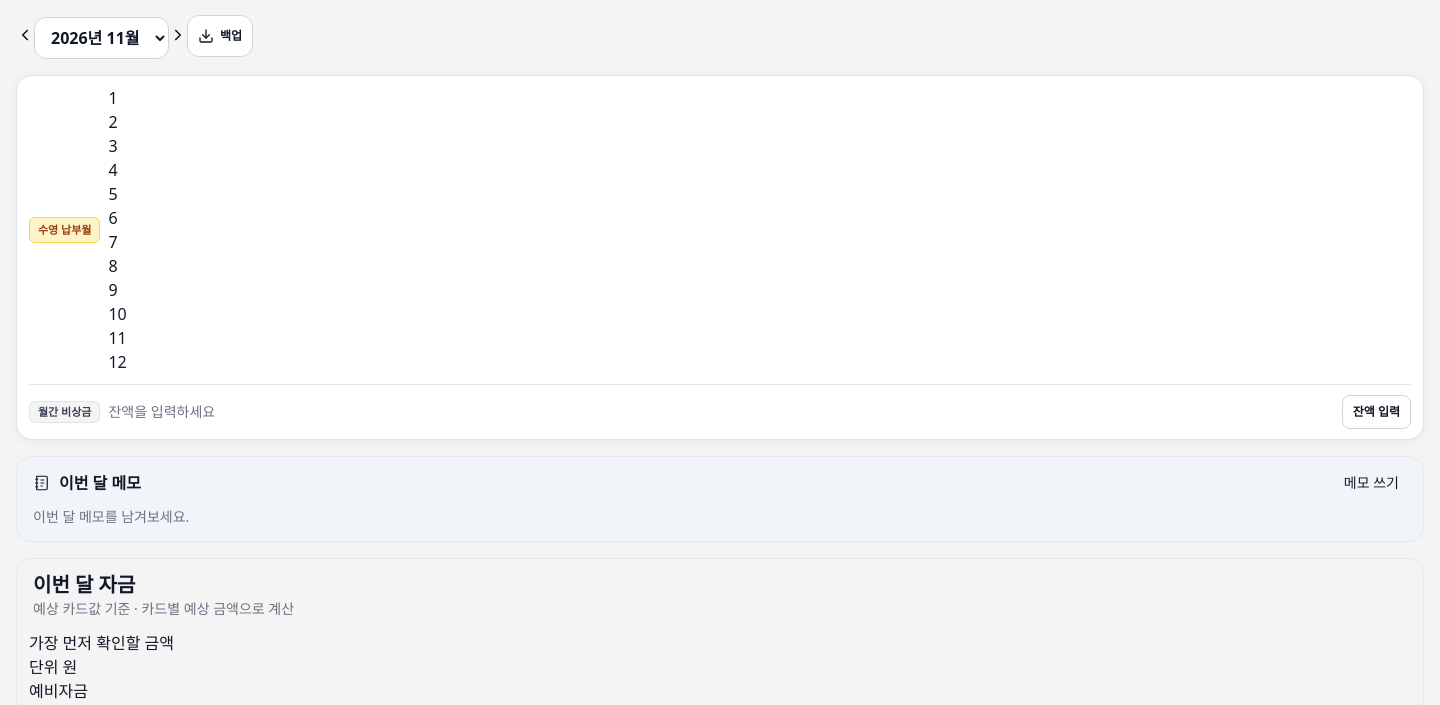
Test: DashboardPage › shows extra spending in its billing month
The image size is (1440, 705).
Select "2025년 1월" in the dropdown named "기준월" at [102, 38], box [34,17,169,59]
(page scrolled)
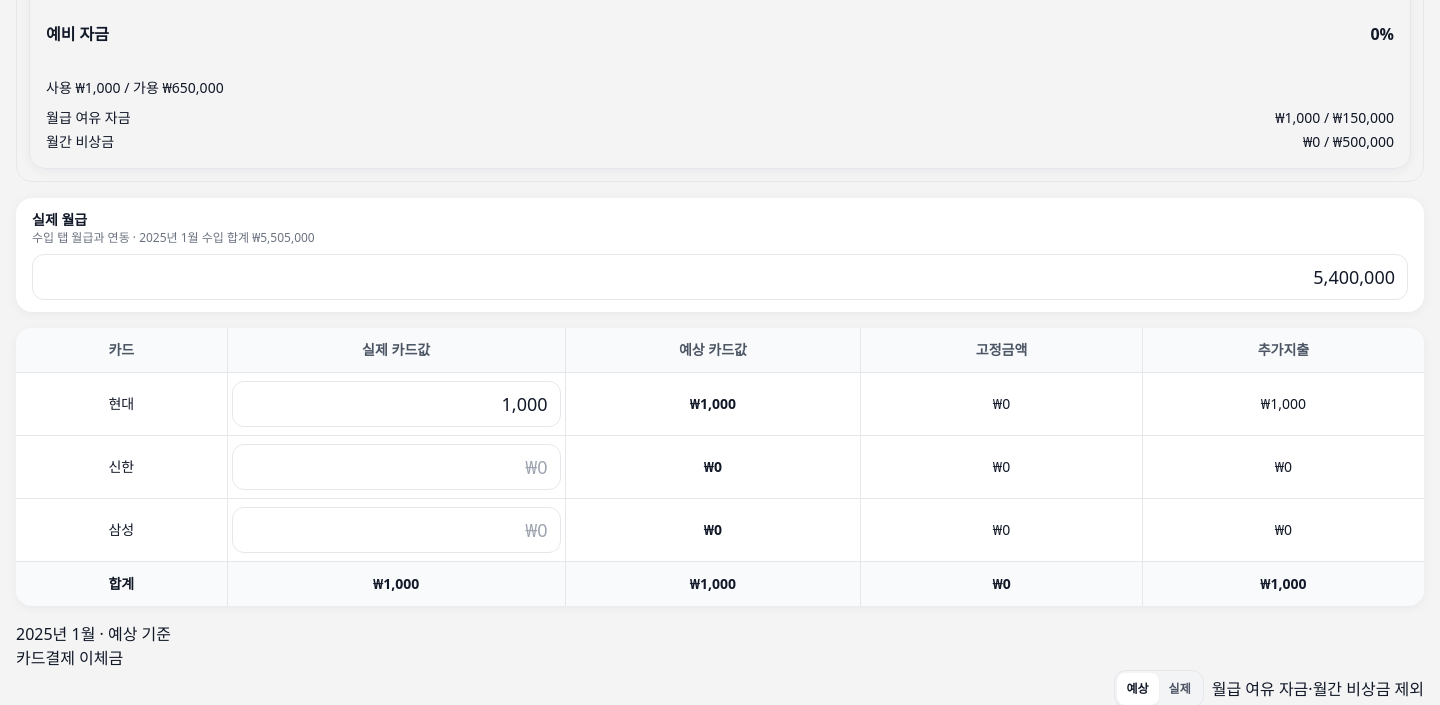
Result: the row "현대 ₩1,000 ₩0 ₩1,000" is shown at [16,372,1424,436]
